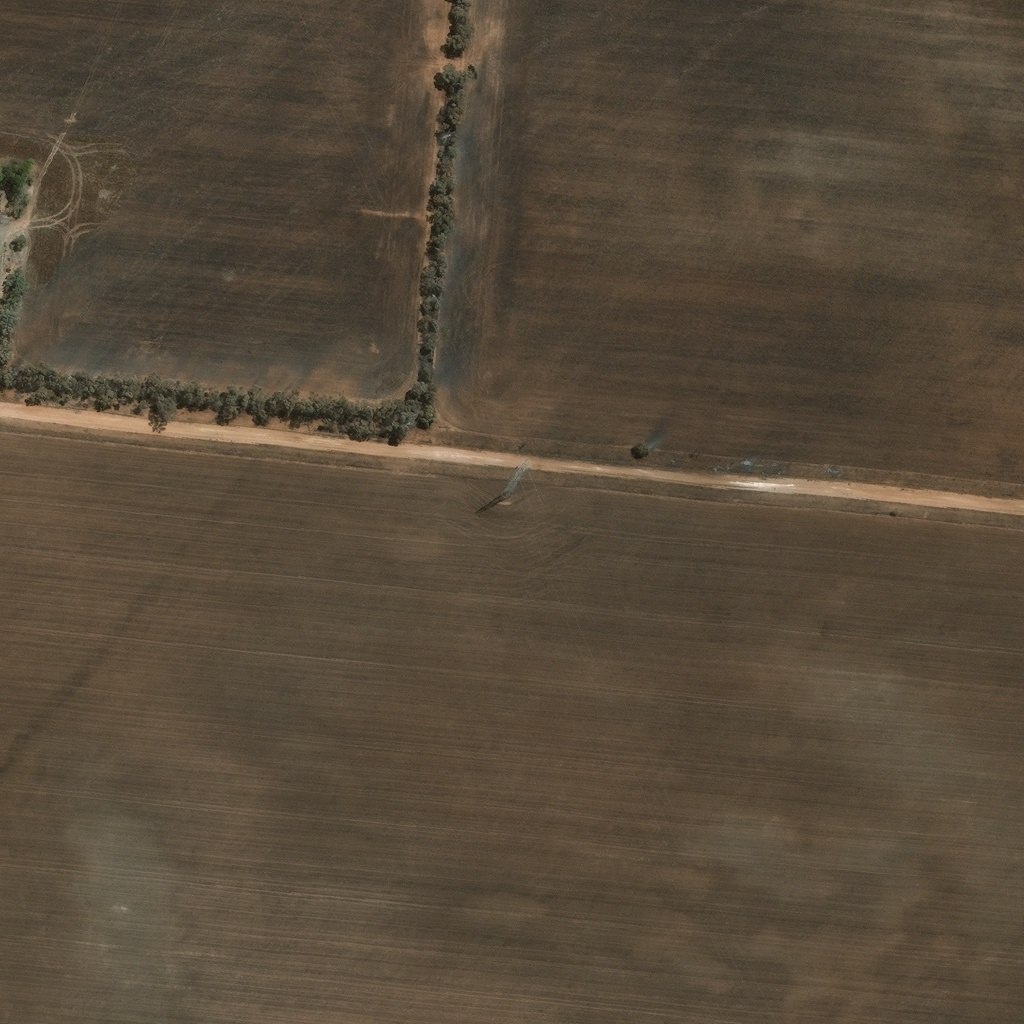4 un-classified: (397, 16, 409, 28), (381, 81, 393, 93)
